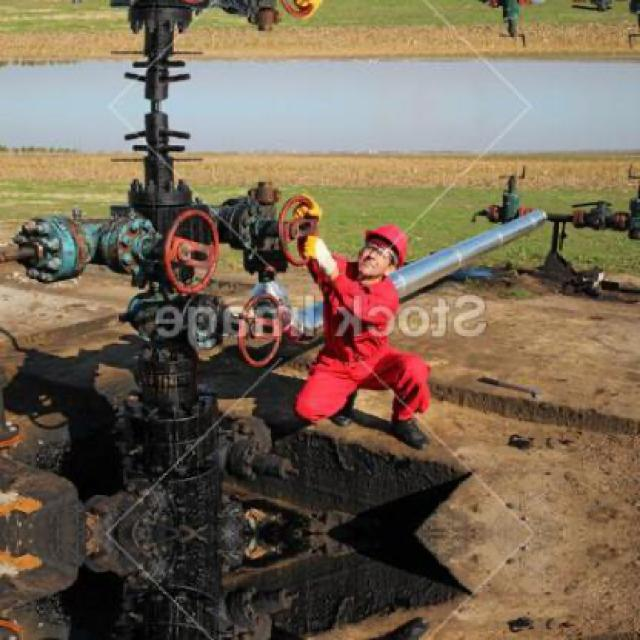con casco: (329, 222, 420, 318)
